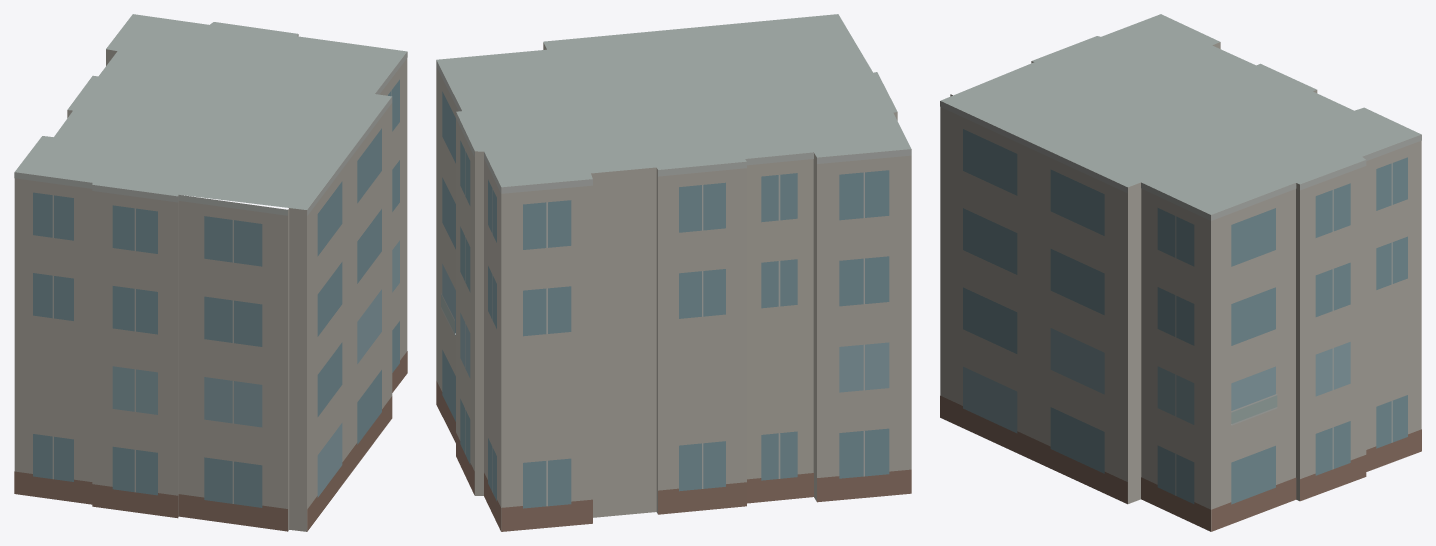
Rendered from survey-upis-32978493.glb.
3 renders of one model, left to right at view 1: azimuth 30°, elevation 25°; view 2: azimuth 150°, elevation 25°; view 3: azimuth 270°, elevation 25°, orthographic. The views are drawn at different scales.
Visible parts, largest first — view 1: survey-upis-32978493.tmp; view 2: survey-upis-32978493.tmp; view 3: survey-upis-32978493.tmp.
Boxes of the visible parts, x1=… form: survey-upis-32978493.tmp: x1=14, y1=14, x2=407, y2=531; survey-upis-32978493.tmp: x1=436, y1=14, x2=911, y2=531; survey-upis-32978493.tmp: x1=940, y1=14, x2=1421, y2=531.
Bounding box in the file's own units: 17.56 × 12.9 × 17.78.
